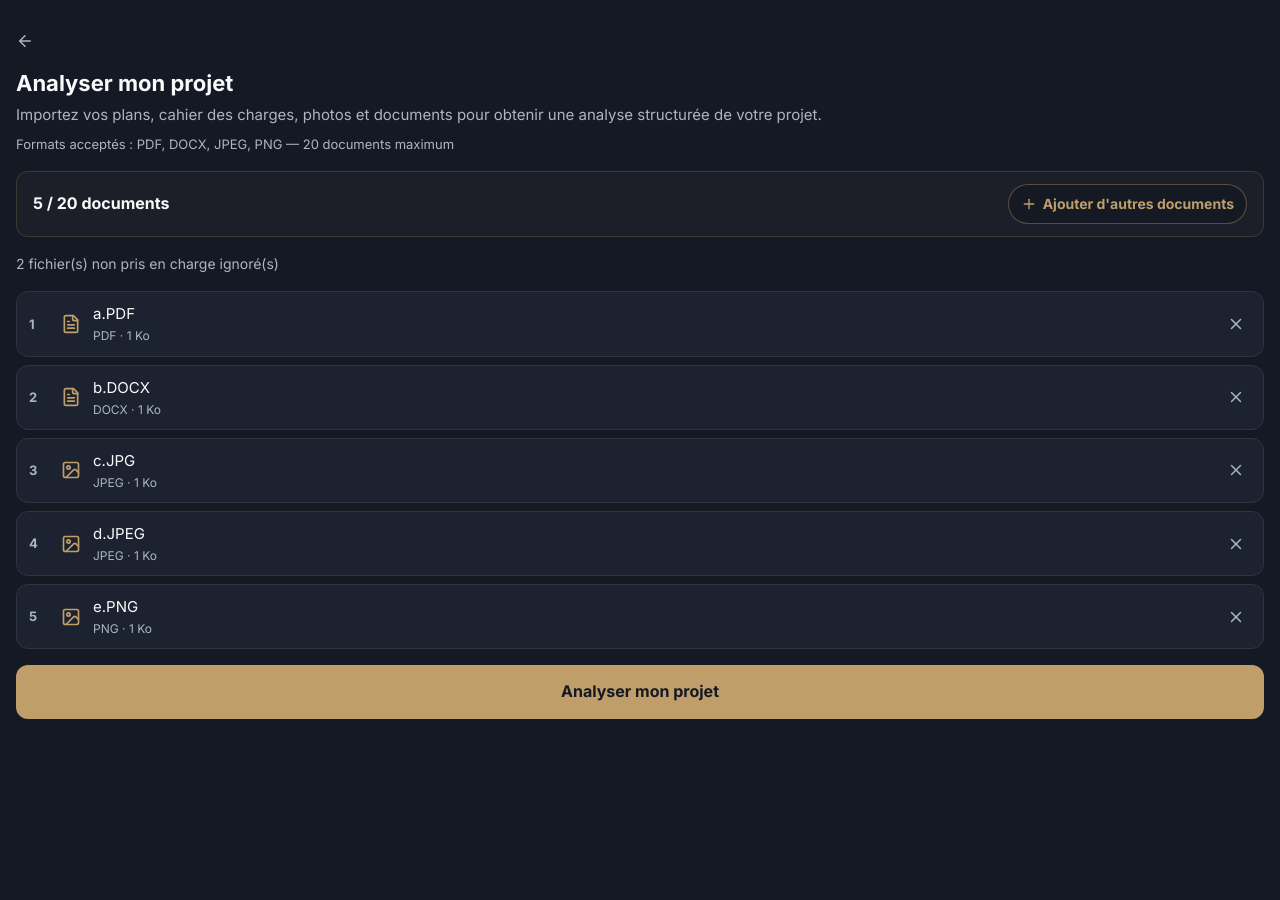
Test: Sélection de documents du projet › formats conservés, extension Android reconnue et retrait individuel
The width and height of the screenshot is (1280, 900).
Earlier steps of the test are not shown.
Expected: the number of list items is 5, [16,291,1264,357]; [16,365,1264,430]; [16,438,1264,503]; [16,511,1264,576]; [16,584,1264,649]
Click the button named "Retirer" in the row of "b.DOCX".
click(1236, 397)  # box [1221,382,1251,412]
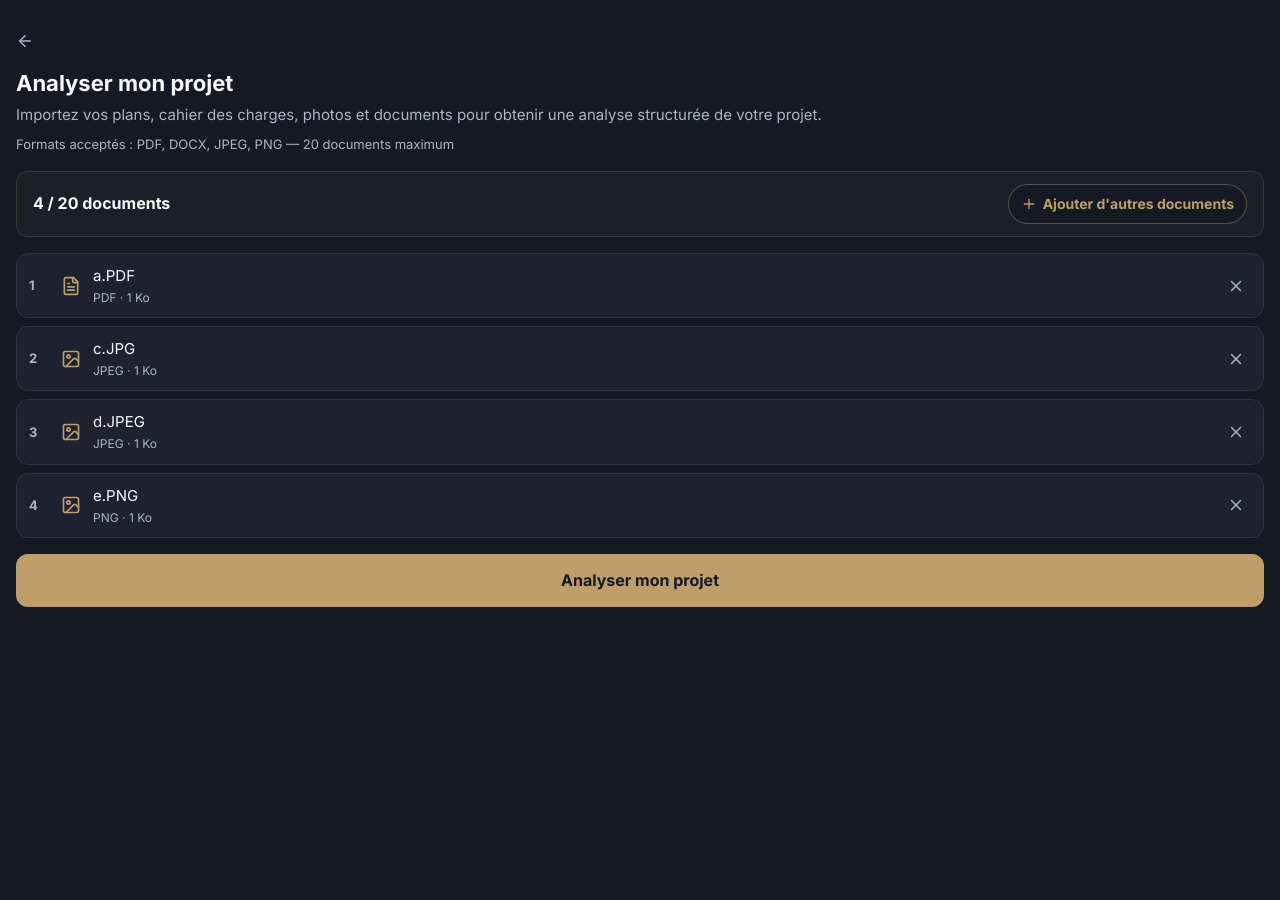
Expected: the text "a.PDF" is shown, [93,266,135,285]
Expected: the number of list items is 4, [16,253,1264,318]; [16,326,1264,391]; [16,399,1264,465]; [16,473,1264,538]
Expected: the text "b.DOCX" is gone
